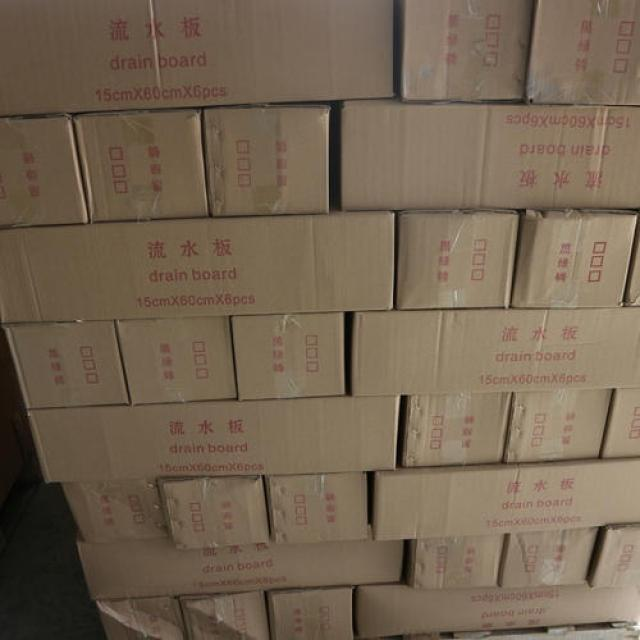box: (0, 0, 406, 113), (1, 212, 396, 324), (331, 105, 639, 214), (27, 395, 400, 483), (344, 306, 639, 397), (77, 530, 406, 601), (368, 457, 639, 540), (353, 582, 639, 639), (74, 109, 211, 226), (202, 104, 331, 220), (400, 0, 538, 104), (395, 210, 522, 311), (512, 208, 639, 308), (524, 0, 639, 105), (1, 320, 132, 409), (115, 317, 238, 405), (0, 112, 91, 229), (230, 312, 346, 401), (395, 390, 513, 469), (157, 474, 272, 551), (503, 388, 618, 463), (262, 471, 370, 545), (60, 479, 172, 545), (501, 525, 601, 587), (401, 531, 507, 588), (265, 585, 355, 639), (177, 590, 271, 639), (95, 595, 187, 639), (588, 523, 638, 588), (602, 387, 639, 458), (624, 207, 639, 306)
